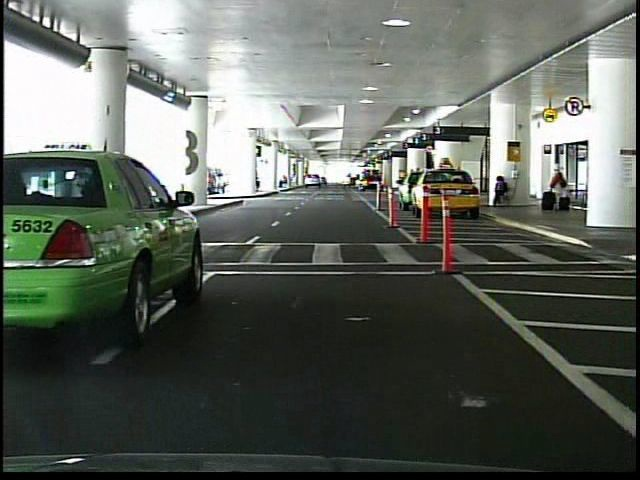person: (48, 147, 74, 229), (550, 163, 571, 213), (490, 174, 511, 208)
